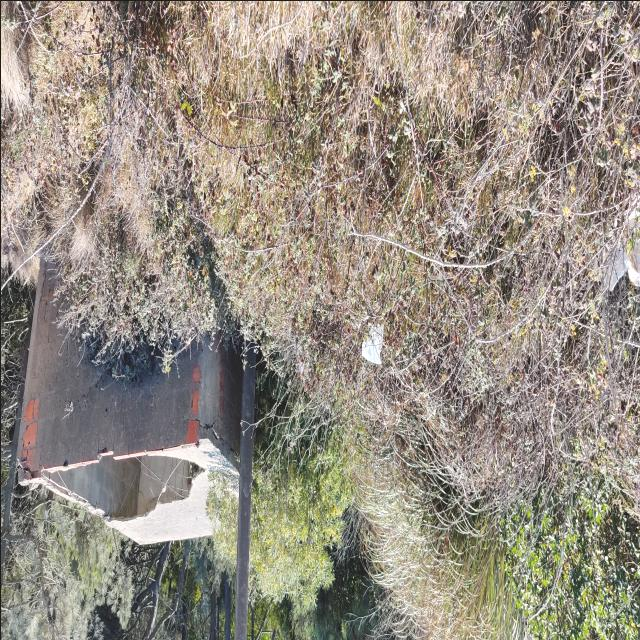Single-use carrier bag: (361, 324, 382, 363)
Unlabeled litter: (593, 199, 639, 289)
